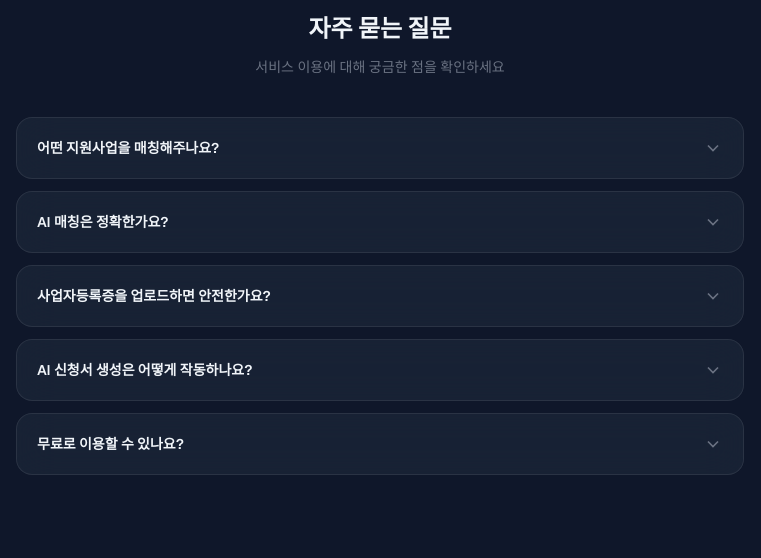
Test: FAQ content regression (각 답변의 핵심 문장) › Q1: 매칭 데이터 소스 › answer mentions '기업마당 공공API'
Click the button "어떤 지원사업을 매칭해주나요?" at (128, 148), box 17,118 -> 743,178
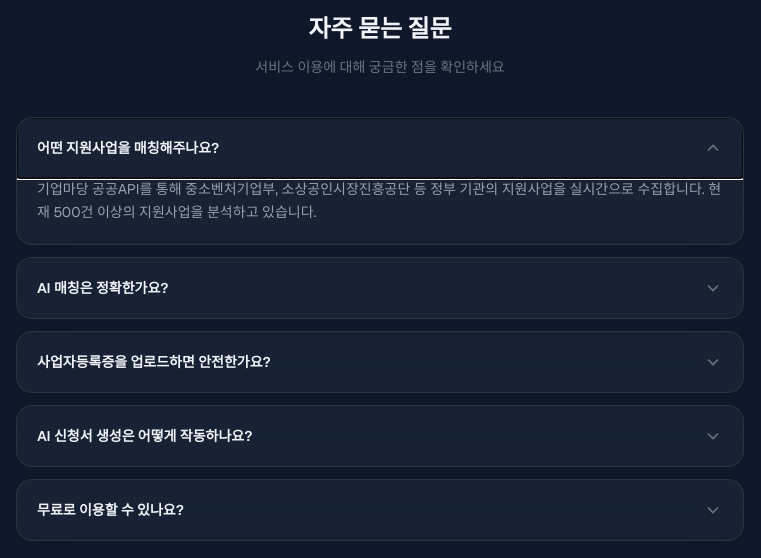
Now the text "기업마당 공공API" is shown, box 37,180 -> 721,221
